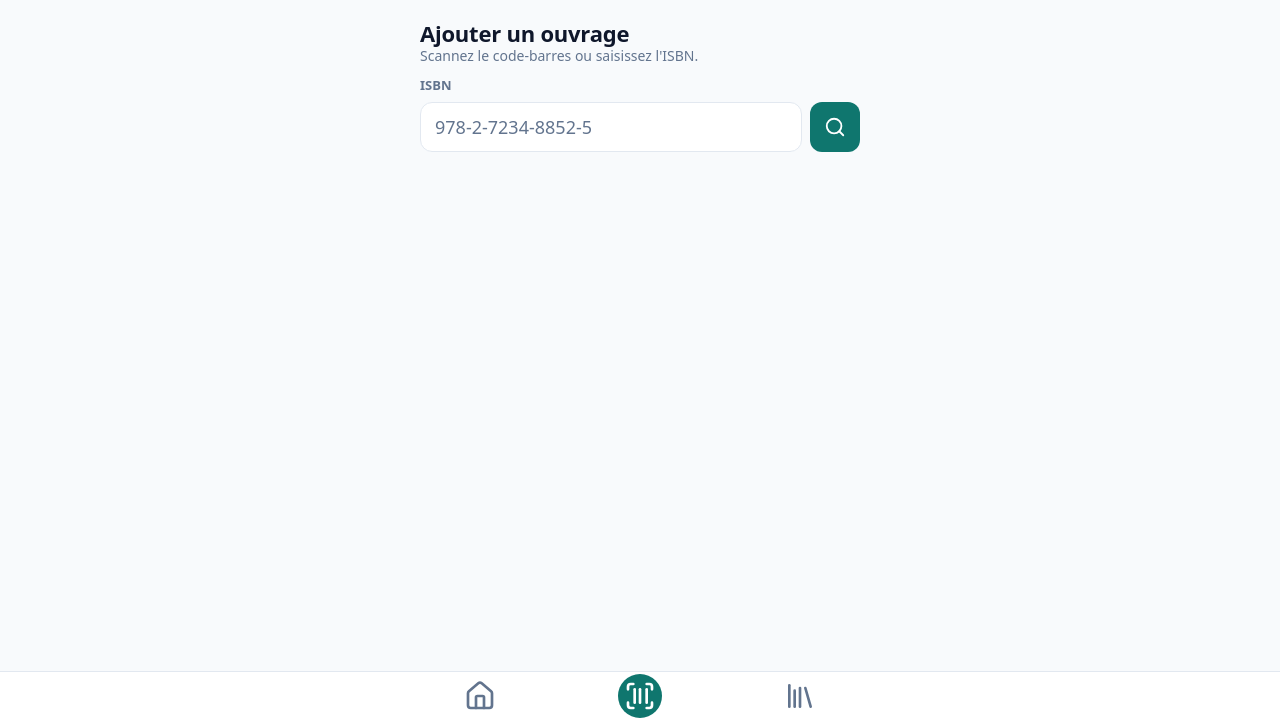
Edition form › S3 Every source down shows no form
Type "9791000000008" into the field labelled "ISBN" at (611, 127), box x1=420 y1=102 x2=802 y2=152
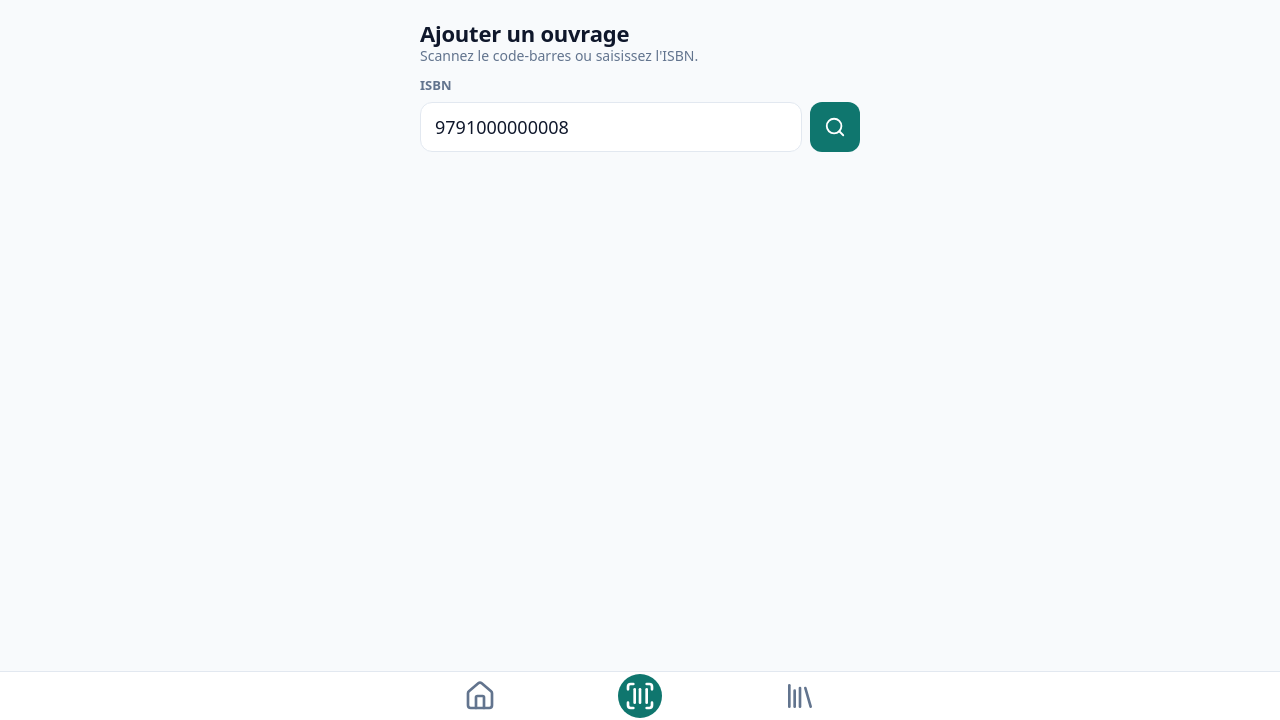
Click the button named "Chercher" at (835, 127), box x1=810 y1=102 x2=860 y2=152
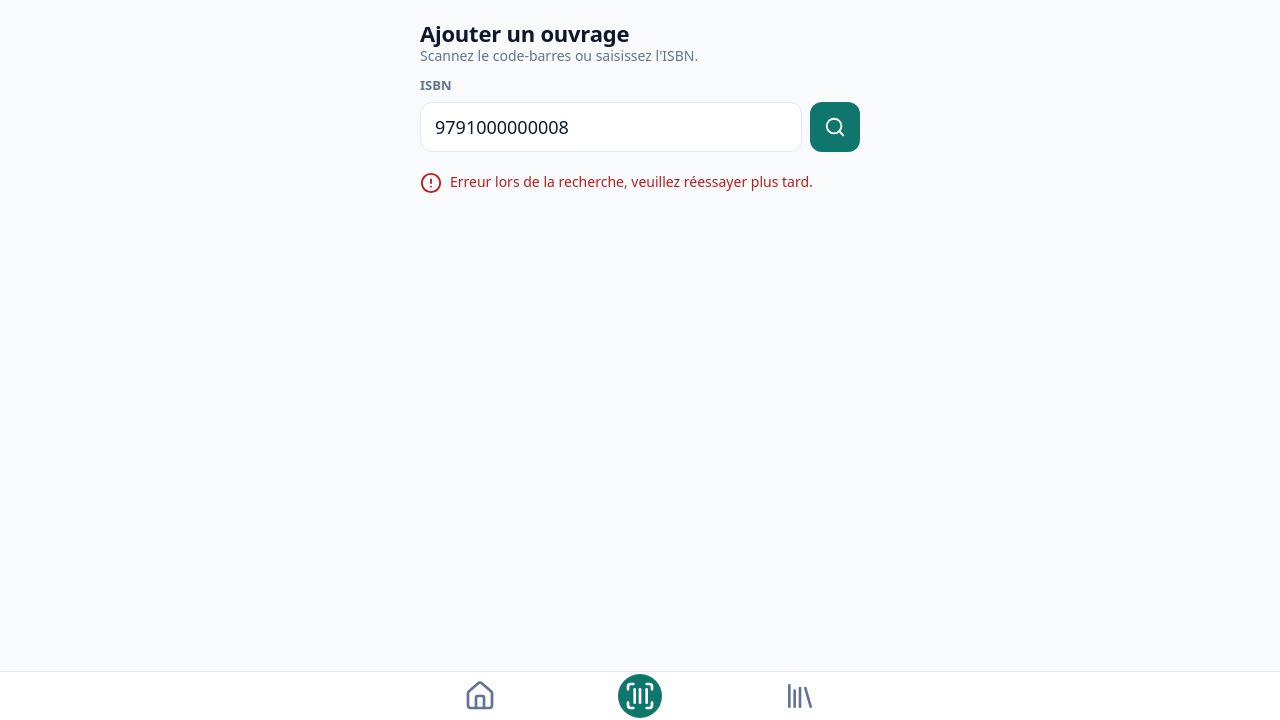
Check: the text "Erreur lors de la recherche, veuillez réessayer plus tard." is shown, box x1=450 y1=172 x2=813 y2=191
